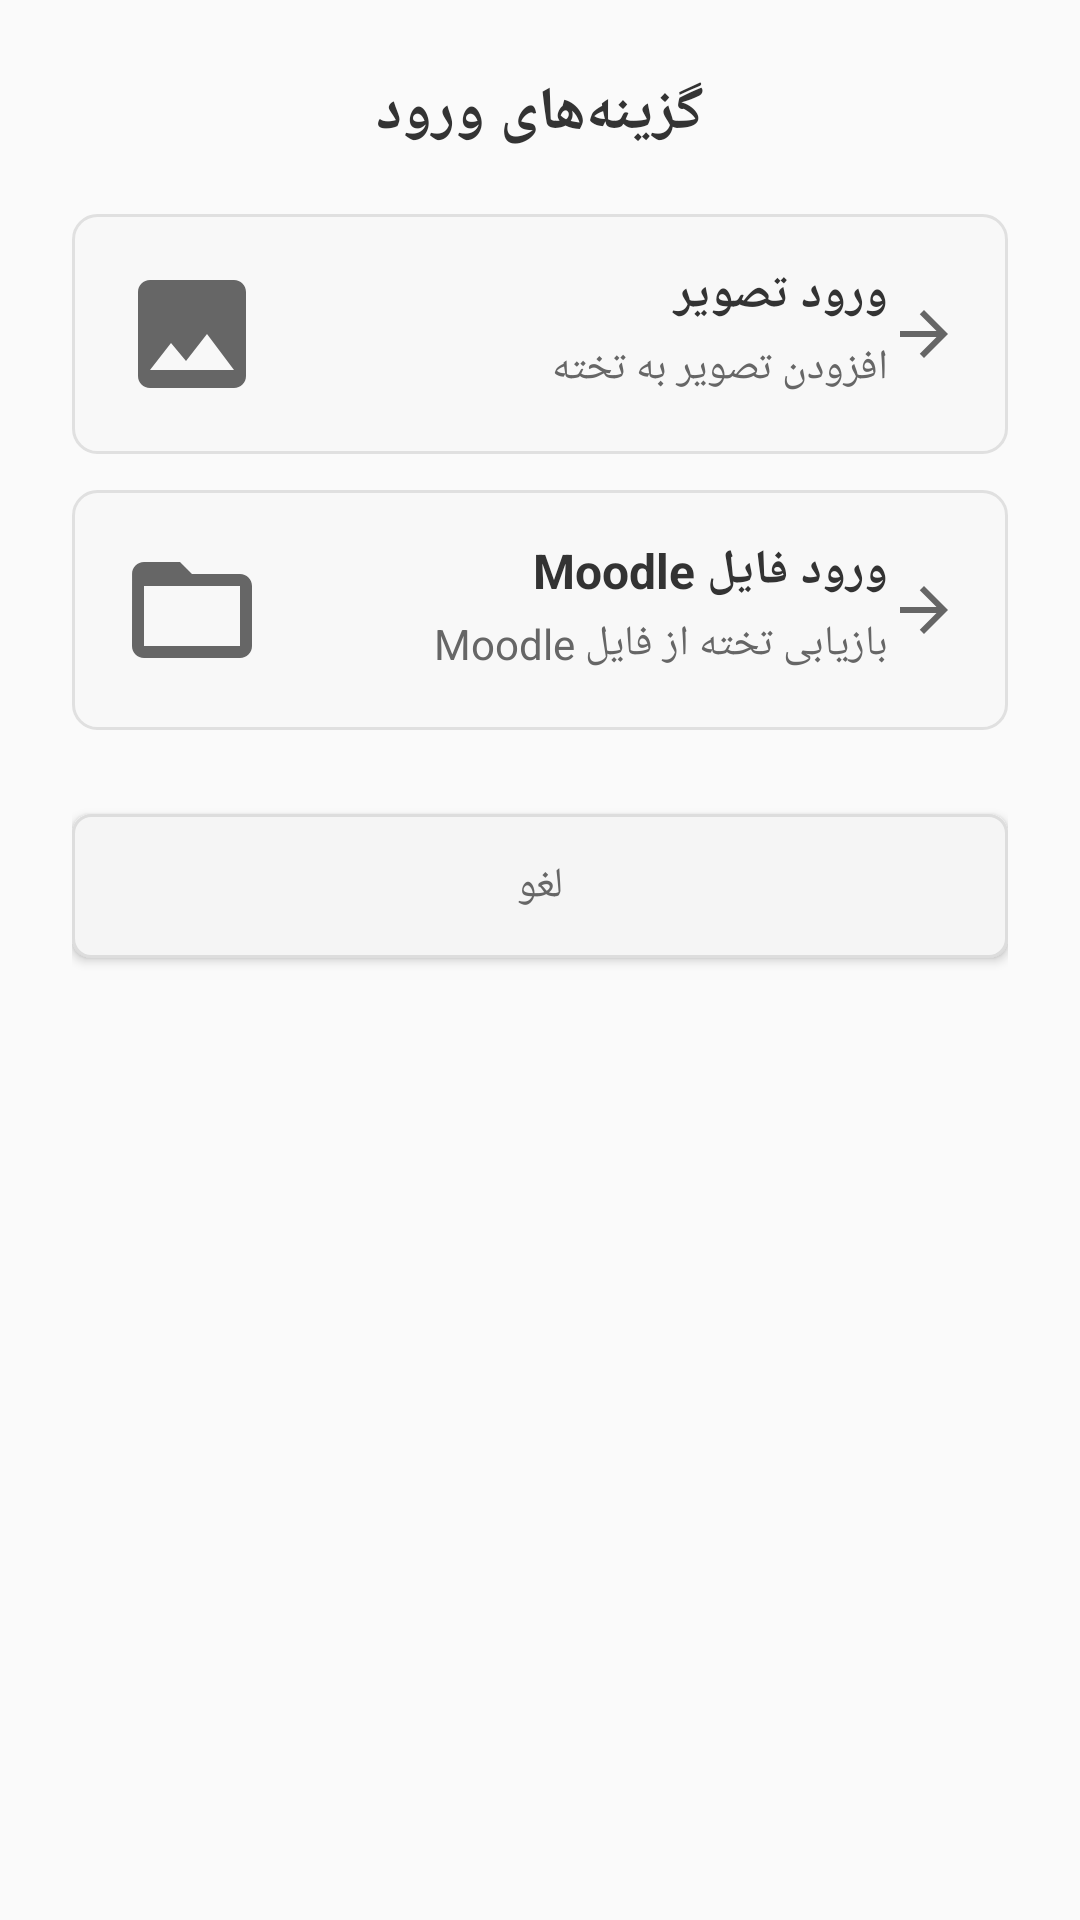

Icon click points for this 1080*1920 phone screenshot, format [x,y]:
arrow forward: [924,334], [924,610]
folder open: [192,610]
